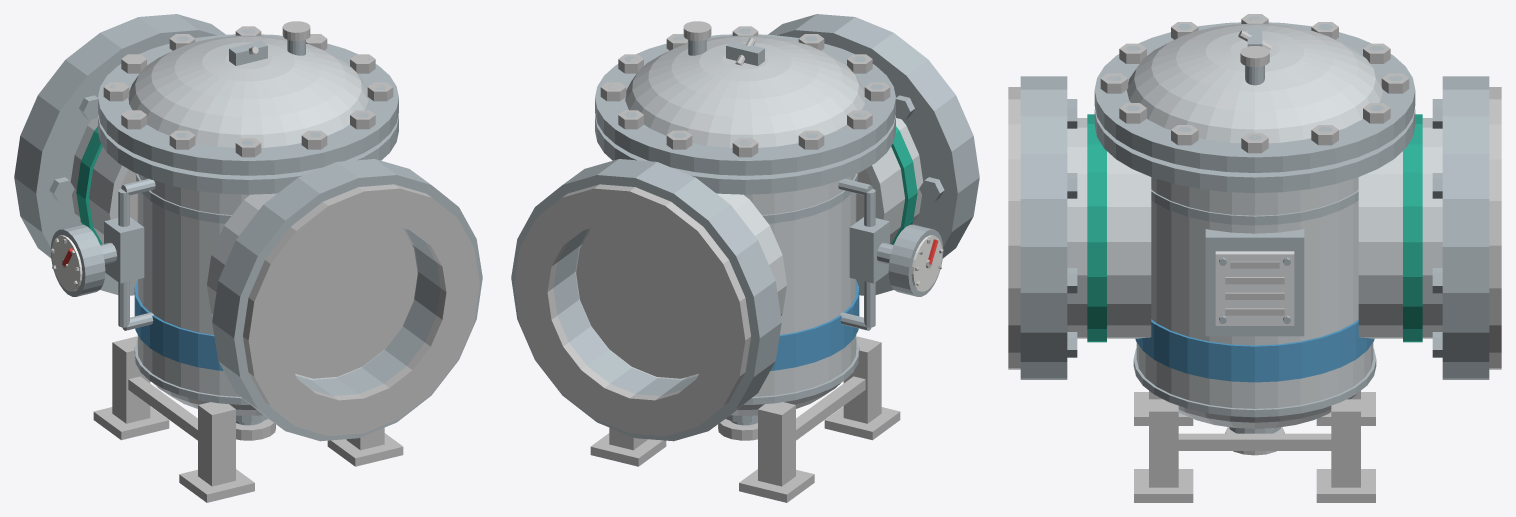
File: body.obj
3 views of the same model, side by side, from view 1: azimuth 30°, elevation 25°; view 2: azimuth 150°, elevation 25°; view 3: azimuth 270°, elevation 25° (orthographic). The views are drawn at different scales.
Bounding box in the file's own units: 0.789 × 0.95 × 1.
